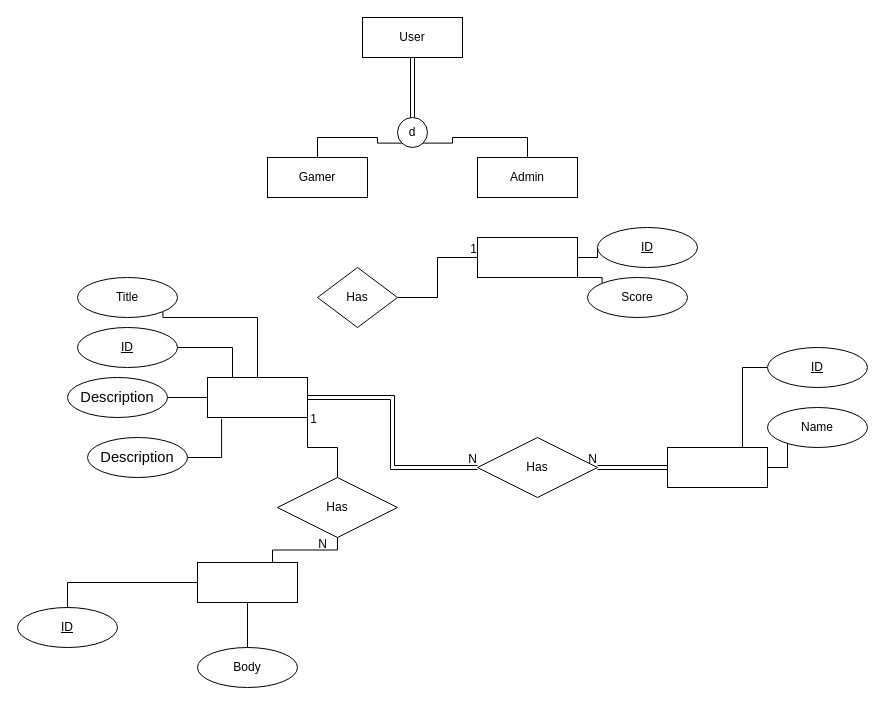
The diagram is 885 pixels wide and 705 high, and some of its shapes have lost their labels. Here are the shapes that lost their labels. From the top down, the centre of each, then its label:
(527,257): Rate
(257,397): Game
(717,467): Genre
(247,582): Comment
